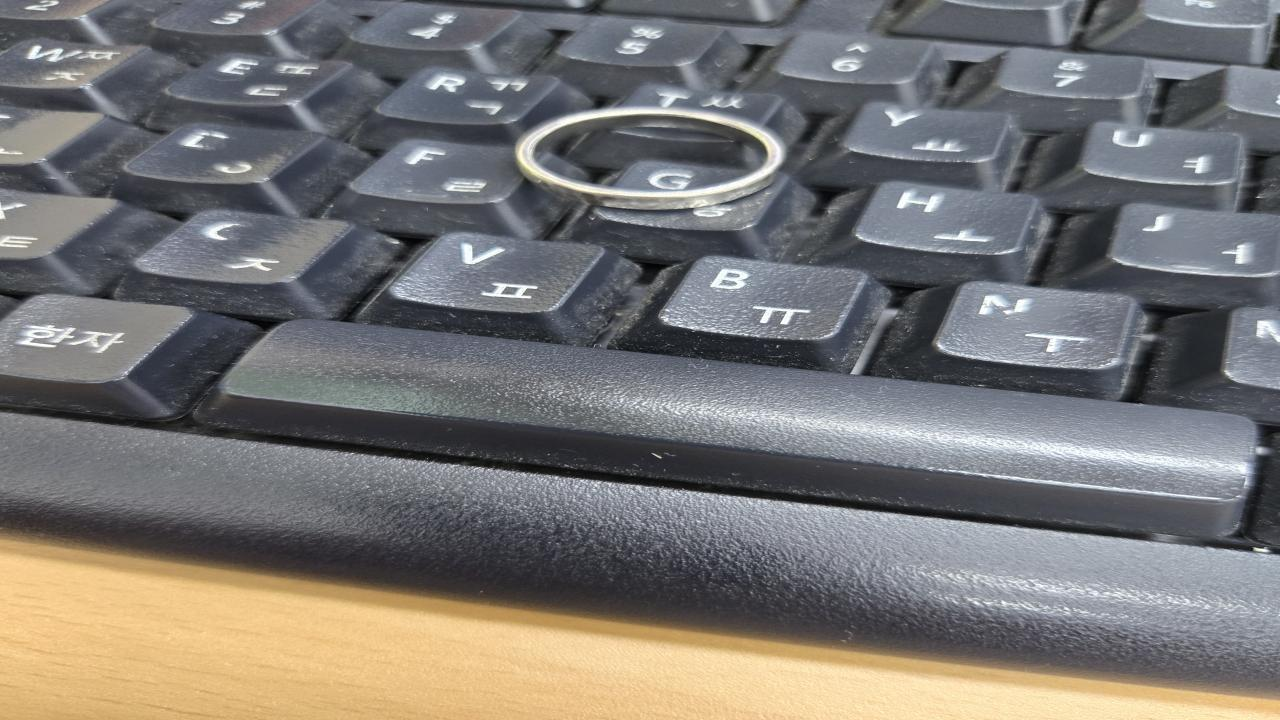ring: (509, 106, 785, 210)
